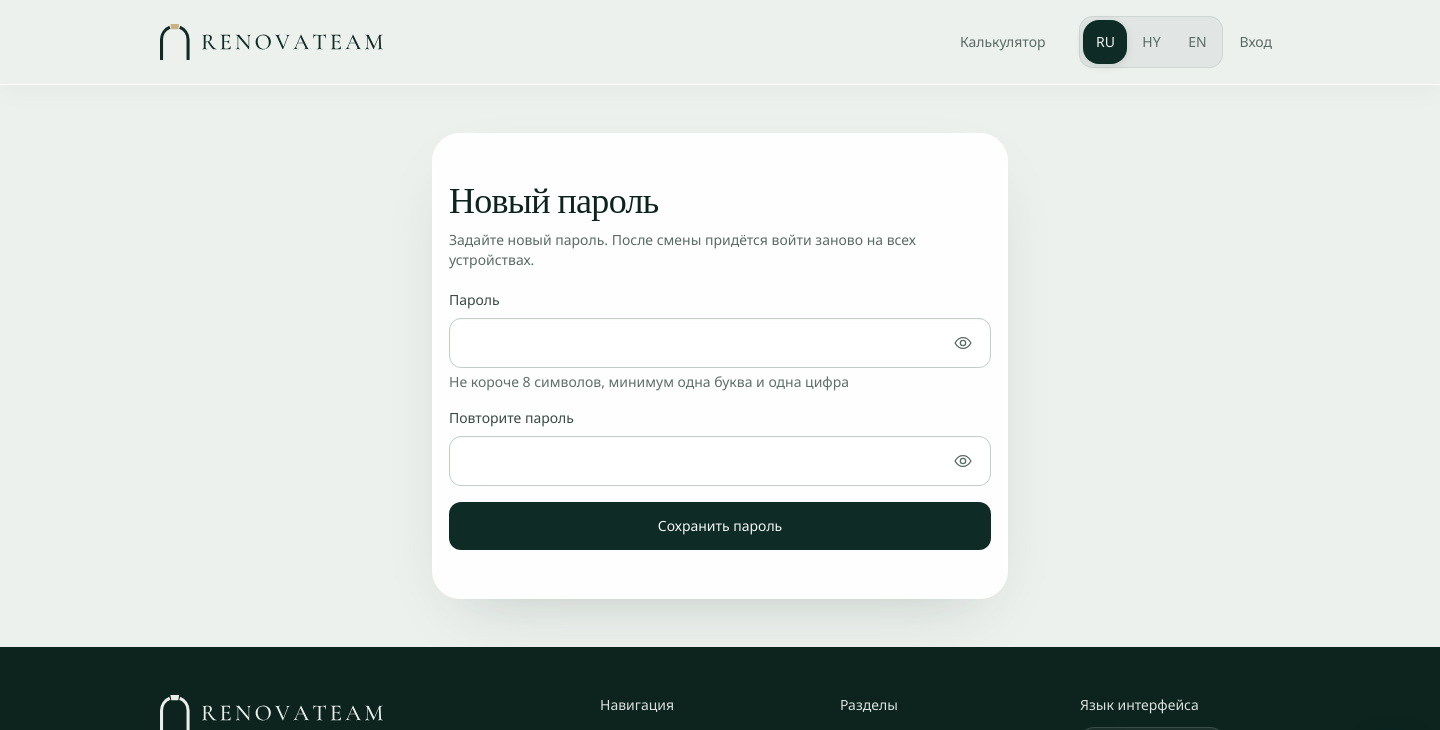
страница установки нового пароля › по хорошей ссылке меняет пароль и отправляет на вход
Type "NewPassword9" into the password field labelled "Пароль" at (720, 343), box x1=449 y1=318 x2=991 y2=368
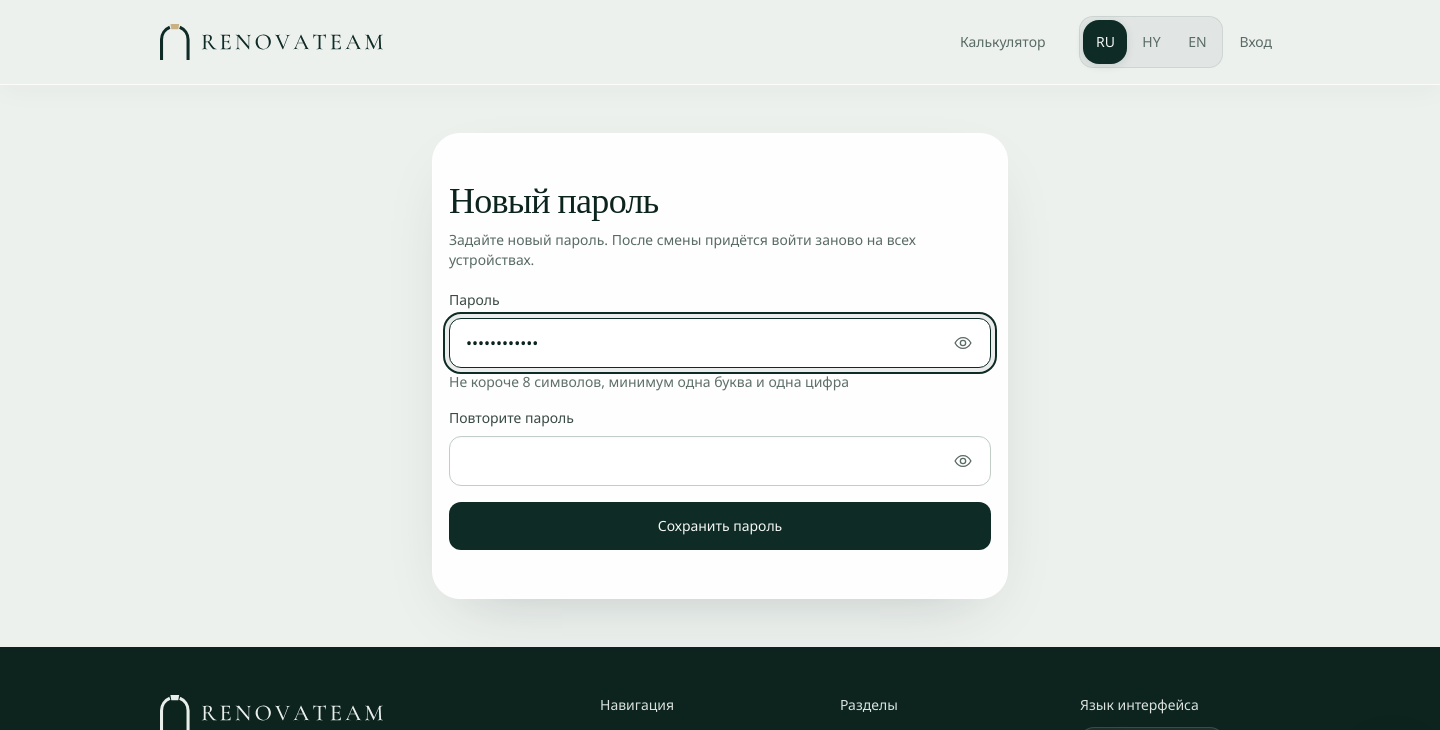
Type "NewPassword9" into the password field labelled "Повторите пароль" at (720, 461), box x1=449 y1=436 x2=991 y2=486
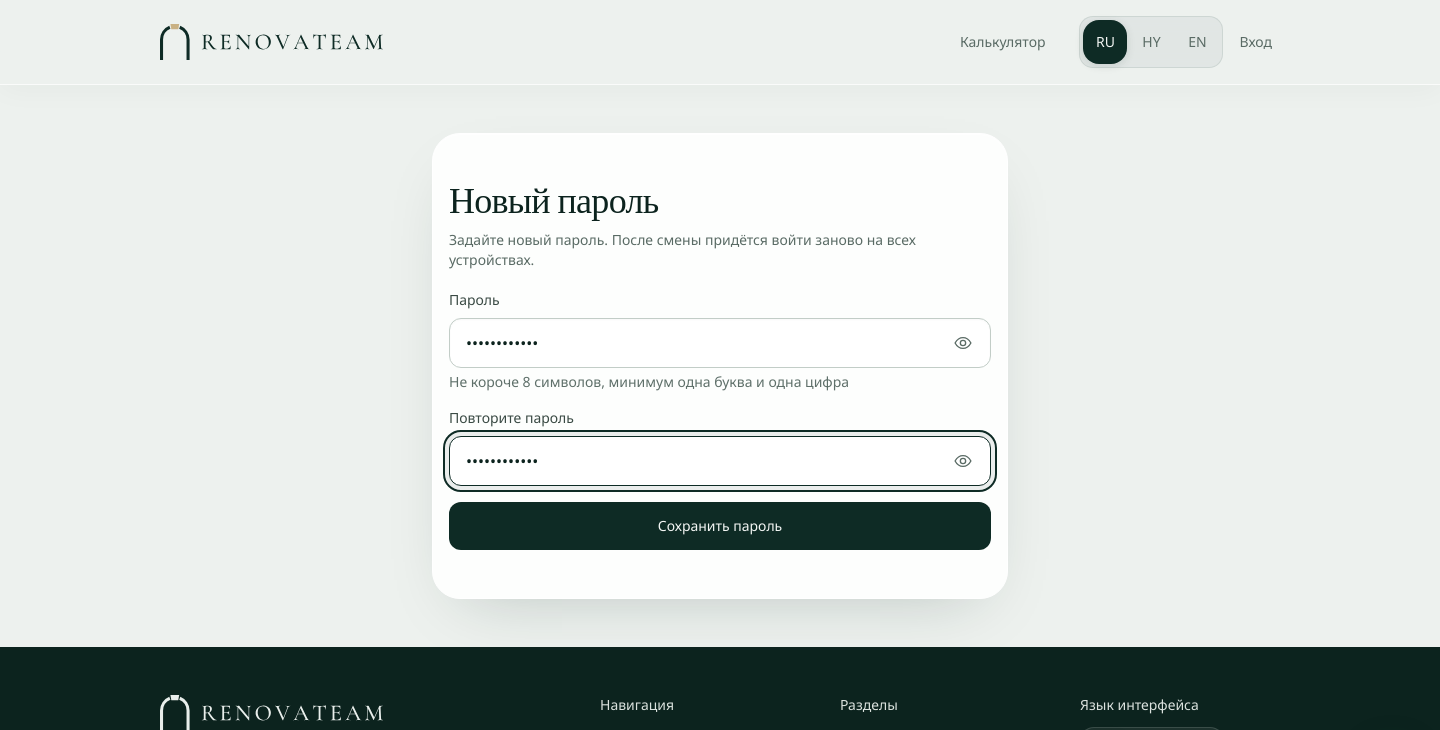
Click the button "Сохранить пароль" at (720, 526), box x1=449 y1=502 x2=991 y2=550
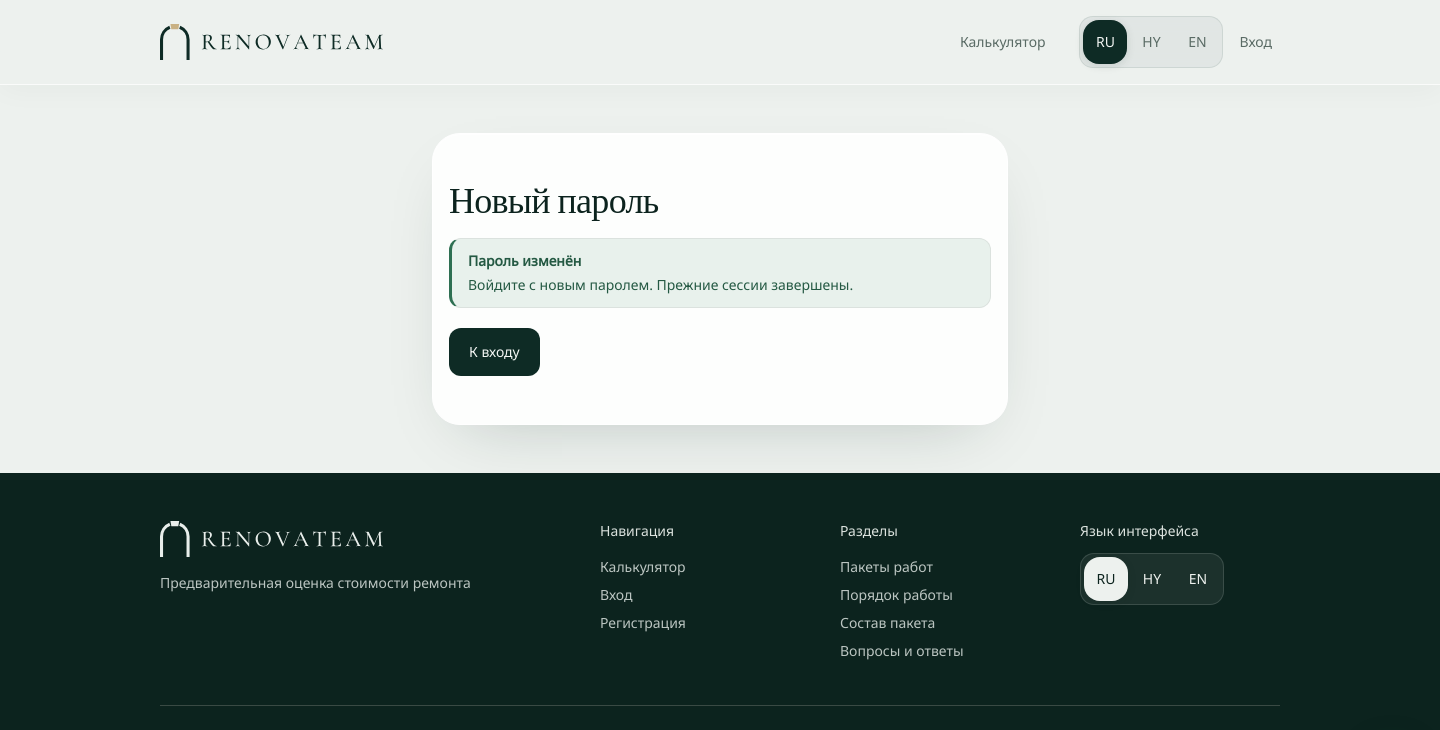
Result: the text "Пароль изменён" is shown at x1=468 y1=251 x2=581 y2=270
Result: the link "К входу" is shown
# Ссылка «К входу» действительно уводит на вход.
Click the link "К входу" at (494, 352), box x1=449 y1=328 x2=540 y2=376
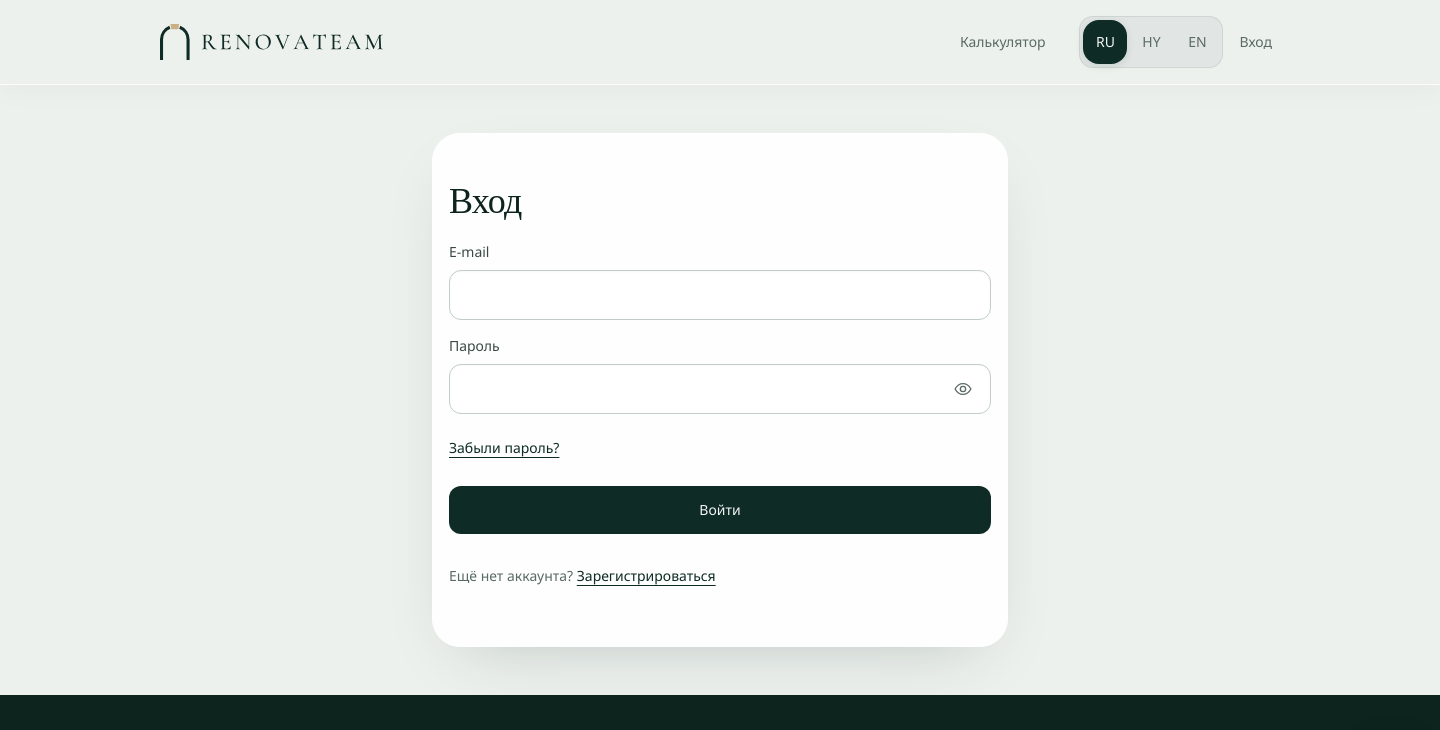
Result: the heading "Вход" is shown at x1=449 y1=180 x2=522 y2=223
